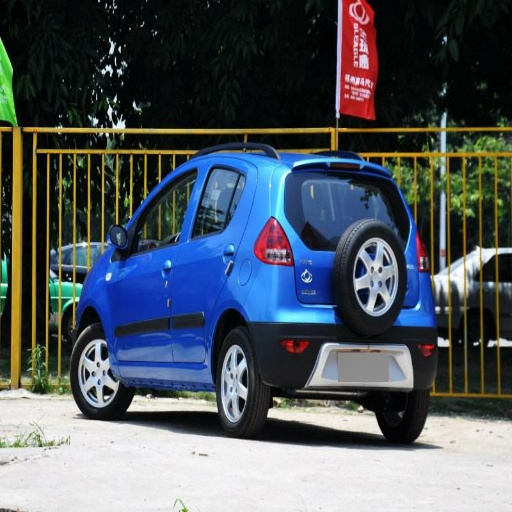back_bumper: (253, 292, 373, 388)
back_glass: (294, 167, 366, 215)
back_left_door: (171, 162, 247, 368)
trunk: (294, 222, 345, 303)
